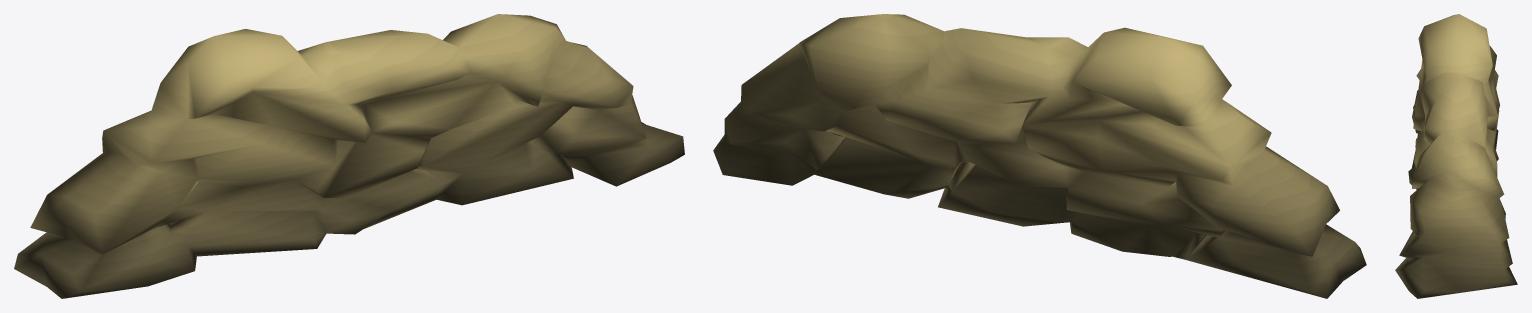
3 views of the same model, side by side, from view 1: azimuth 30°, elevation 25°; view 2: azimuth 150°, elevation 25°; view 3: azimuth 270°, elevation 25° (orthographic). The views are drawn at different scales.
Visible parts, largest first — view 1: SB5.col; view 2: SB5.col; view 3: SB5.col.
Boxes of the visible parts, bbox=[...] form: SB5.col: bbox=[14, 14, 684, 298]; SB5.col: bbox=[713, 14, 1366, 298]; SB5.col: bbox=[1395, 14, 1517, 298].
Size of the model in its own units: 3.73 by 1.17 by 0.9319.
Materials: 1 (1 with a texture image).
